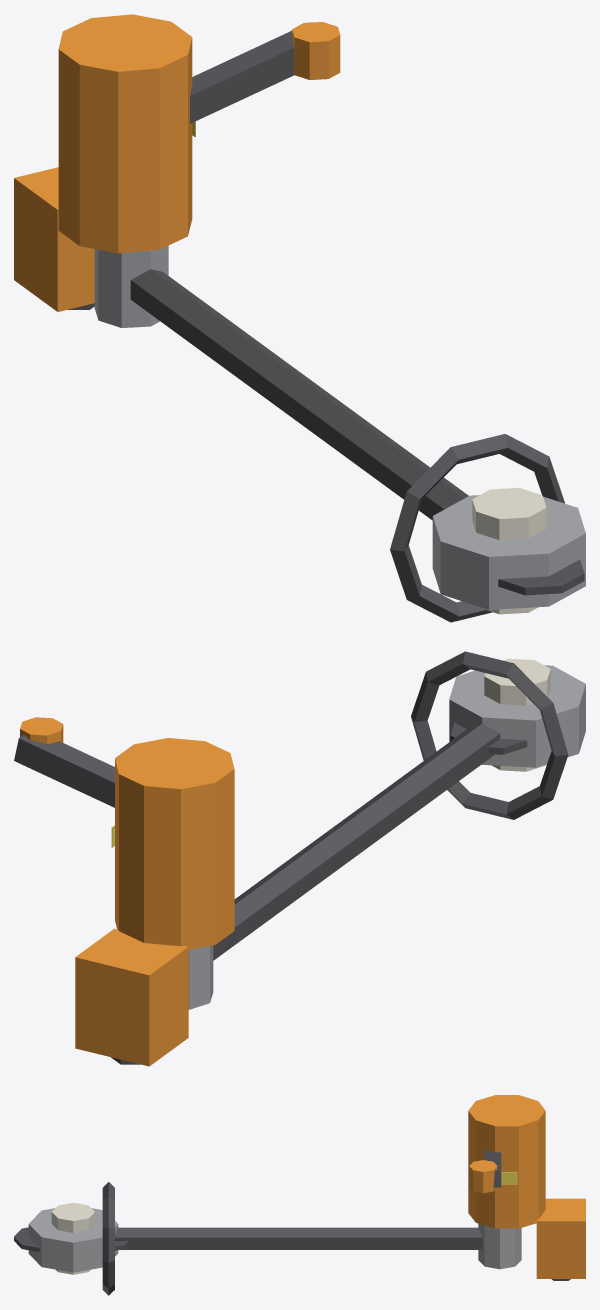
File: desbrozadora_100x.glb
3 renders of one model, top to bottom at view 1: azimuth 30°, elevation 25°; view 2: azimuth 150°, elevation 25°; view 3: azimuth 270°, elevation 25°, orthographic. The views are drawn at different scales.
Visible parts, largest first — view 1: Motor, Tubo, Cabeza, Deposito, Reborde, Barra, Cuello, Bobina, Mando, CarreteA; view 2: Motor, Deposito, Tubo, Cabeza, Reborde, Barra, Bobina, Cuello, Mando, CarreteB; view 3: Motor, Tubo, Deposito, Cabeza, Cuello, Reborde, Bobina, Mando, Barra, CarreteA.
Boxes of the visible parts, <box> form: Motor: <box>58,14,192,253</box>; Tubo: <box>130,269,468,520</box>; Cabeza: <box>432,495,585,609</box>; Deposito: <box>14,167,94,311</box>; Reborde: <box>390,434,564,622</box>; Barra: <box>190,22,309,123</box>; Cuello: <box>94,245,168,327</box>; Bobina: <box>472,488,546,614</box>; Mando: <box>292,22,340,79</box>; CarreteA: <box>498,559,584,595</box>; Motor: <box>115,738,234,949</box>; Deposito: <box>75,928,188,1066</box>; Tubo: <box>213,723,500,960</box>; Cabeza: <box>449,665,585,767</box>; Reborde: <box>411,651,568,819</box>; Barra: <box>14,735,114,807</box>; Bobina: <box>484,658,550,771</box>; Cuello: <box>188,945,213,1009</box>; Mando: <box>20,717,63,743</box>; CarreteB: <box>450,722,527,754</box>; Motor: <box>468,1095,545,1228</box>; Tubo: <box>115,1227,482,1249</box>; Deposito: <box>536,1198,585,1278</box>; Cabeza: <box>28,1208,118,1272</box>; Cuello: <box>478,1223,521,1269</box>; Reborde: <box>102,1182,114,1295</box>; Bobina: <box>51,1202,94,1274</box>; Mando: <box>469,1160,497,1193</box>; Barra: <box>484,1150,501,1187</box>; CarreteA: <box>14,1227,39,1251</box>.
Bounding box in the file's own units: 0.387 × 0.416 × 1.21.
